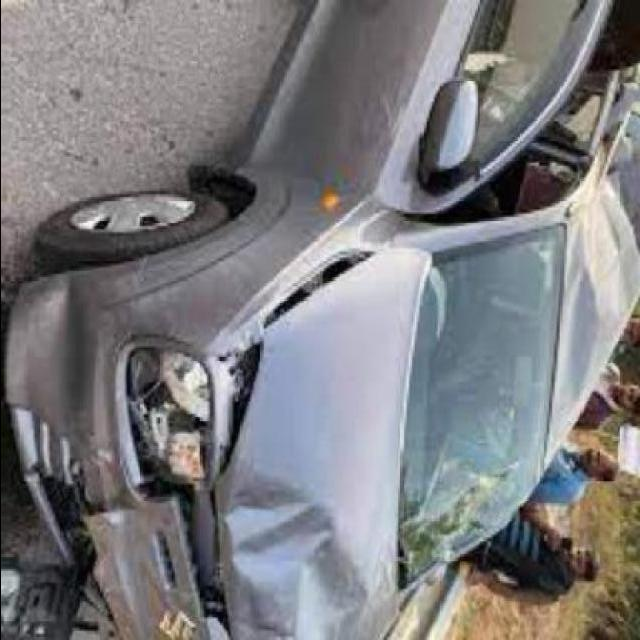bonnet-dent: (219, 295, 418, 633)
front-bumper-dent: (1, 259, 215, 638)
roof-dent: (535, 65, 639, 466)
